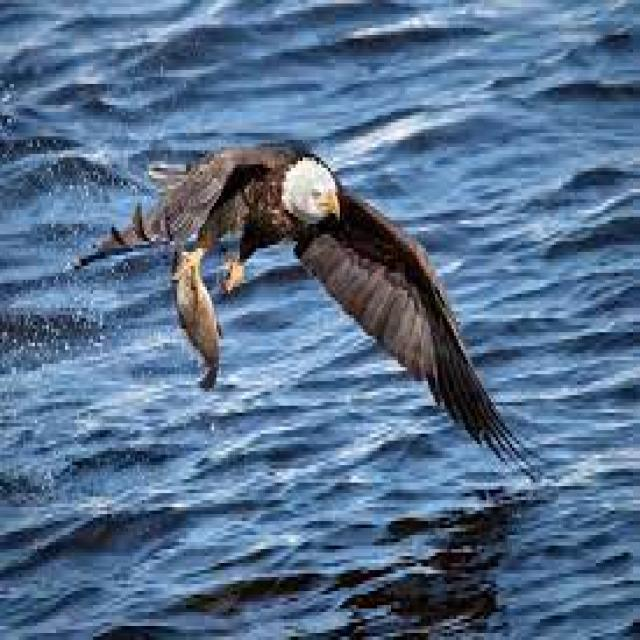Carnivorous: (72, 143, 524, 469)
